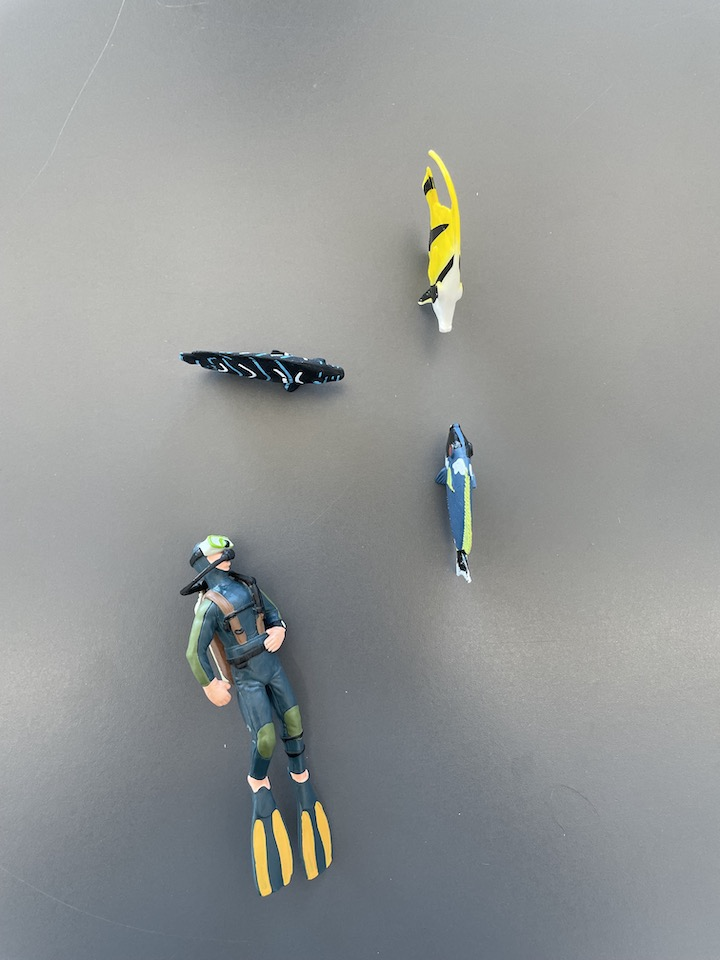danger: (413, 146, 468, 337)
diver: (177, 530, 340, 899)
fish: (179, 345, 348, 395), (435, 419, 484, 590)
